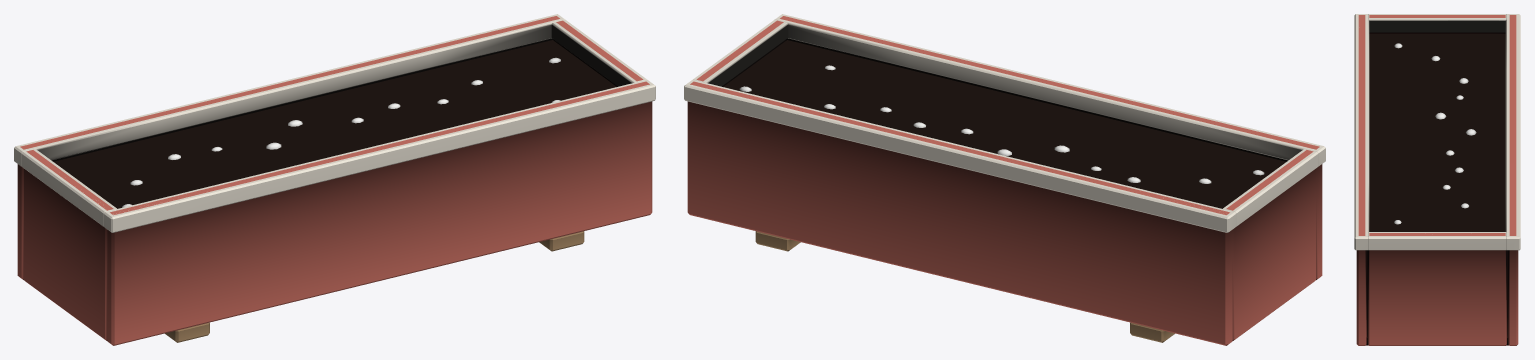
The model's file is nd_planter.glb.
3 views of the same model, side by side, from view 1: azimuth 30°, elevation 25°; view 2: azimuth 150°, elevation 25°; view 3: azimuth 270°, elevation 25° (orthographic). The views are drawn at different scales.
Parts seen in each view (by area): view 1: PART; view 2: PART; view 3: PART.
Part boxes in pixels (box(x1,y1,x2,y2)): PART: box(14, 14, 655, 345); PART: box(684, 14, 1325, 345); PART: box(1354, 14, 1520, 345).
Size of the model in its own units: 0.786 by 0.2 by 0.246.
